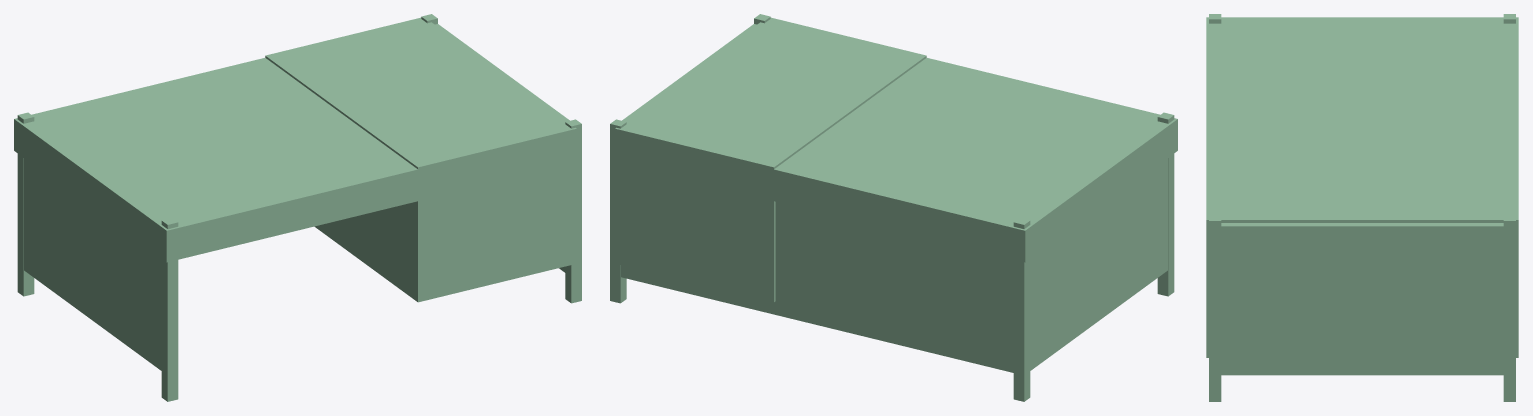
The model's file is mdl_deskblockout.fbx.
The picture shows the model from 3 angles, left to right: view 1: azimuth 30°, elevation 25°; view 2: azimuth 150°, elevation 25°; view 3: azimuth 270°, elevation 25°; orthographic projection. The views are drawn at different scales.
Parts seen in each view (by area): view 1: pCube10, pCube9, pCube7, pCube2, pCube3, pCube5, pCube6; view 2: pCube9, pCube10, pCube8, pCube7, pCube5, pCube4, pCube2, pCube6; view 3: pCube6, pCube9, pCube10, pCube4, pCube3.
Boxes of the visible parts, x1,y1,x2,y2 form: pCube10: (265, 17, 576, 302); pCube9: (14, 58, 427, 262); pCube7: (24, 158, 161, 370); pCube2: (161, 218, 178, 401); pCube3: (565, 119, 581, 303); pCube5: (17, 112, 34, 296); pCube6: (435, 24, 569, 275); pCube9: (764, 58, 1177, 262); pCube10: (615, 17, 926, 302); pCube8: (621, 202, 1013, 372); pCube7: (1030, 158, 1167, 370); pCube5: (1013, 218, 1030, 401); pCube4: (610, 119, 626, 303); pCube2: (1157, 112, 1174, 296); pCube6: (622, 24, 756, 121); pCube6: (1212, 223, 1510, 375); pCube9: (1206, 17, 1518, 140); pCube10: (1206, 140, 1518, 357); pCube4: (1503, 215, 1515, 401); pCube3: (1209, 215, 1221, 401).
Size of the model in its own units: 229 by 92.93 by 145.
